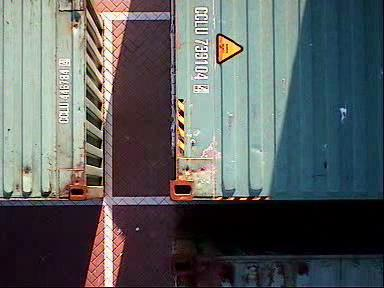groundmarker_2: (101, 172, 148, 229), (97, 11, 140, 46)
